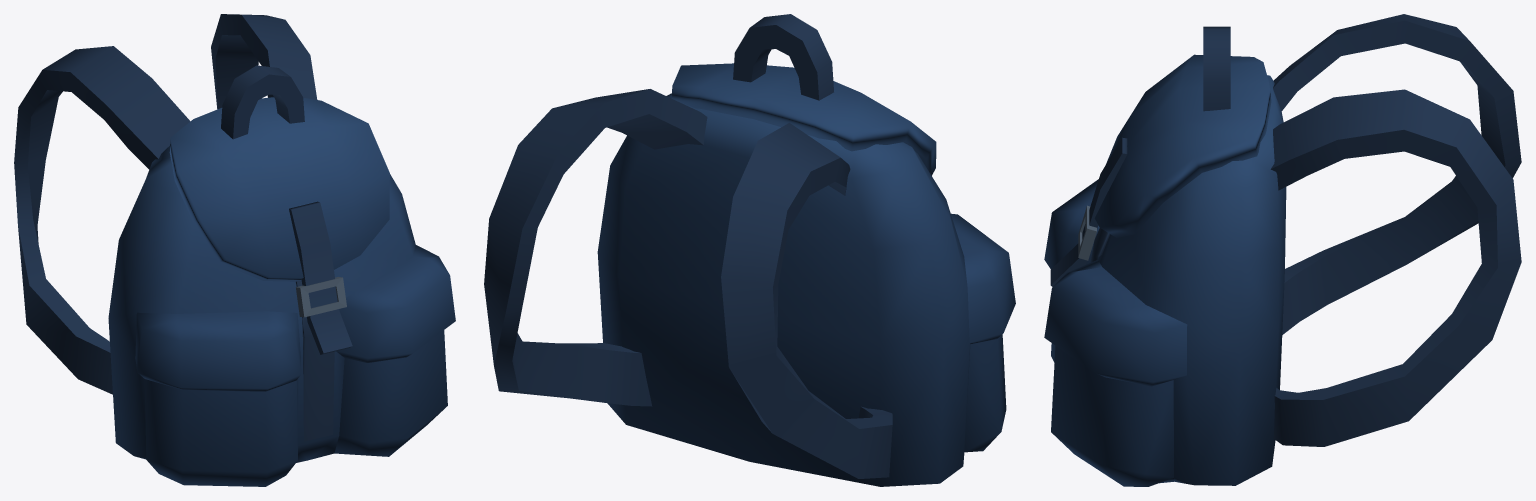
File: Bagpack_3.fbx
3 renders of one model, left to right at view 1: azimuth 30°, elevation 25°; view 2: azimuth 150°, elevation 25°; view 3: azimuth 270°, elevation 25°, orthographic. The views are drawn at different scales.
Parts seen in each view (by area): view 1: Bagpack_3; view 2: Bagpack_3; view 3: Bagpack_3.
Boxes of the visible parts, x1,y1,x2,y2 form: Bagpack_3: (14,14,455,486); Bagpack_3: (484,14,1015,486); Bagpack_3: (1044,14,1521,486).
Size of the model in its own units: 47.18 by 52.49 by 57.3.
